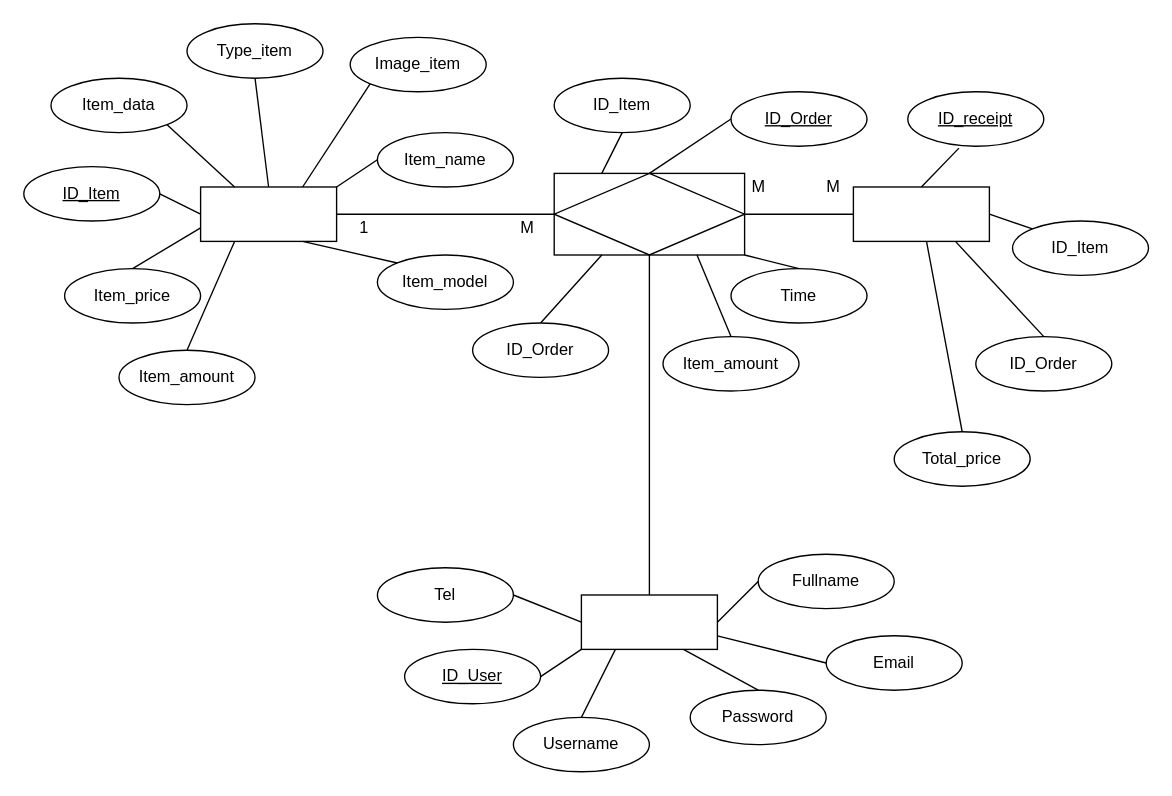
This 1172x796 diagram has some shape labels left out. The centre of each missing label's shape, as x and y in pixels:
"item" belongs at pixel 268 213.
"Order" belongs at pixel 649 213.
"Receipt" belongs at pixel 920 213.
"user" belongs at pixel 648 621.
